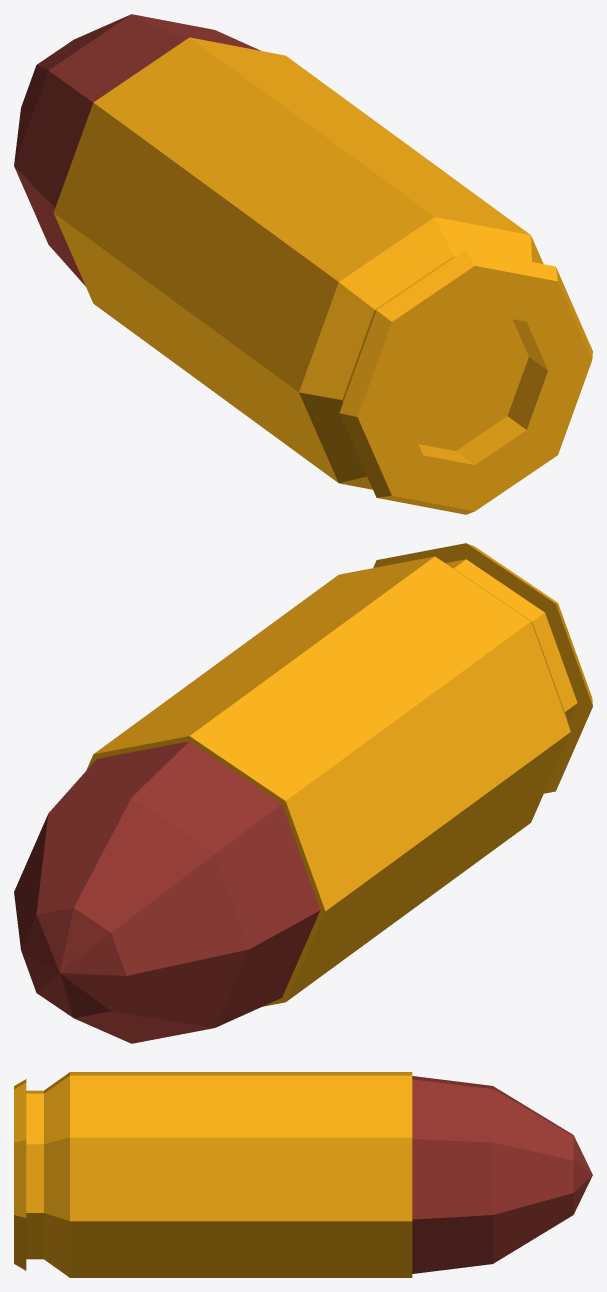
Rendered from round.glb.
The picture shows the model from 3 angles, top to bottom: view 1: azimuth 30°, elevation 25°; view 2: azimuth 150°, elevation 25°; view 3: azimuth 270°, elevation 25°; orthographic projection. The views are drawn at different scales.
Parts seen in each view (by area): view 1: 45-acp-round; view 2: 45-acp-round; view 3: 45-acp-round.
Boxes of the visible parts, x1,y1,x2,y2 form: 45-acp-round: (14,14,592,514); 45-acp-round: (14,543,592,1043); 45-acp-round: (14,1072,592,1277).
Bounding box in the file's own units: 0.0123 × 0.0123 × 0.0325.
